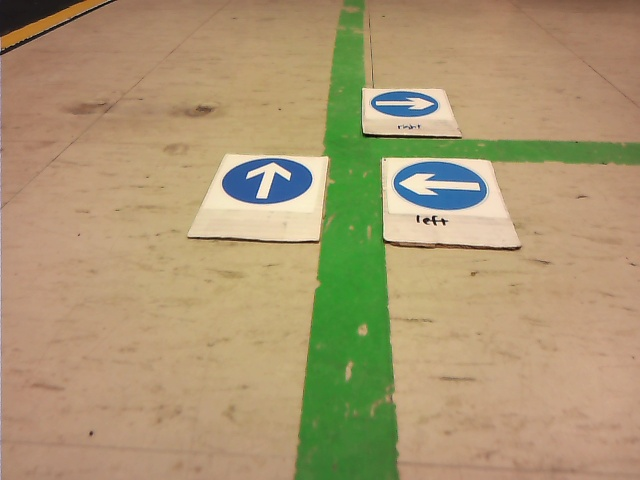GO FORWARD: (222, 158, 312, 203)
TURN LEFT: (393, 162, 489, 208)
TURN RIGHT: (371, 91, 438, 116)
